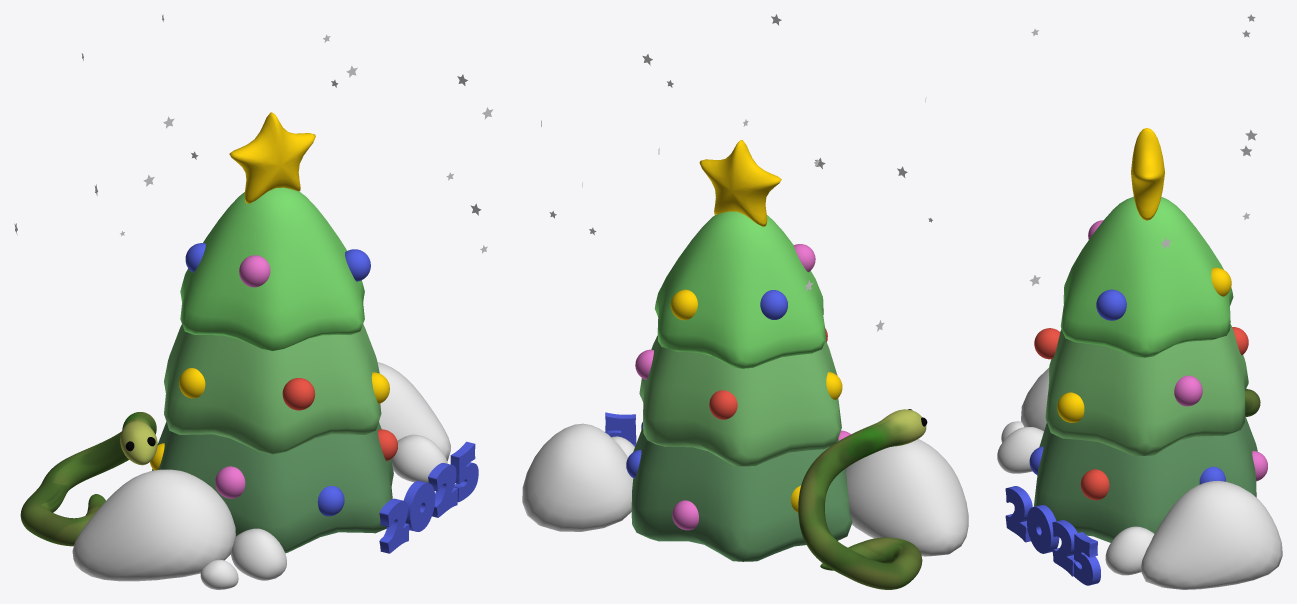
3 views of the same model, side by side, from view 1: azimuth 30°, elevation 25°; view 2: azimuth 150°, elevation 25°; view 3: azimuth 270°, elevation 25° (orthographic). The views are drawn at different scales.
Parts seen in each view (by area): view 1: Cylinder, Cylinder.001, Cylinder.002, Sphere.016, Zmeya, Text, Zvezda, Sphere.015, Sphere.018, Sphere.017, Sphere.019, Sphere.003 (+6 smaller); view 2: Cylinder, Cylinder.001, Cylinder.002, Sphere.016, Zmeya, Sphere.015, Zvezda, Text, Sphere.007, Sphere.006, Sphere.013, Sphere.014; view 3: Cylinder, Cylinder.001, Cylinder.002, Sphere.015, Text, Zvezda, Sphere.017, Sphere.018, Sphere.016, Sphere, Sphere.009, Sphere.010 (+4 smaller).
Part boxes in pixels (x1,y1,x2,y2): Cylinder: (180,187,364,350); Cylinder.001: (164,324,381,454); Cylinder.002: (152,421,393,553); Sphere.016: (72,469,235,581); Zmeya: (20,412,157,546); Text: (379,441,478,553); Zvezda: (229,112,315,203); Sphere.015: (377,362,450,460); Sphere.018: (231,528,286,580); Sphere.017: (391,434,447,482); Sphere.019: (200,559,238,589); Sphere.003: (282,378,315,410); Cylinder: (654,211,826,368); Cylinder.001: (639,335,841,466); Cylinder.002: (631,427,852,561); Sphere.016: (845,439,968,556); Zmeya: (798,409,927,589); Sphere.015: (522,423,633,531); Zvezda: (699,140,781,226); Text: (605,412,642,446); Sphere.007: (709,390,737,419); Sphere.006: (670,289,697,320); Sphere.013: (760,290,787,319); Sphere.014: (672,500,698,530); Cylinder: (1060,196,1233,357); Cylinder.001: (1045,324,1248,455); Cylinder.002: (1033,416,1257,542); Sphere.015: (1140,480,1282,589); Text: (1005,486,1100,585); Zvezda: (1131,128,1164,220); Sphere.017: (1105,526,1154,575); Sphere.018: (997,427,1043,473); Sphere.016: (1021,367,1049,430); Sphere: (1096,289,1126,320); Sphere.009: (1080,469,1109,500); Sphere.010: (1174,375,1202,406).
Size of the model in its own units: 1.47 by 1.63 by 0.9152.
11 materials, 1 textured.
